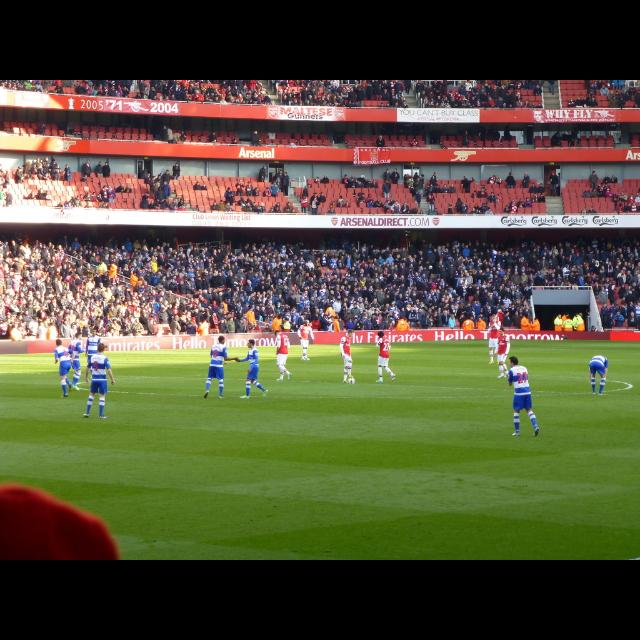Football: (348, 378, 354, 382)
